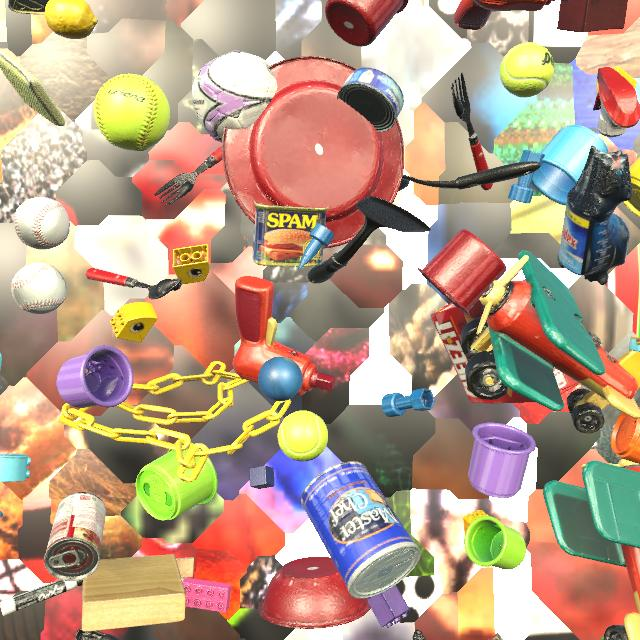ycb_002_master_chef_can: (301, 461, 421, 599)
ycb_003_cracker_box: (431, 279, 579, 403)
ycb_005_tomato_soup_can: (44, 492, 106, 581), (488, 633, 503, 640)
ycb_007_tuna_fish_can: (337, 67, 404, 132)
ycb_010_potted_meat_can: (252, 199, 329, 267), (8, 0, 49, 15)
ycb_014_lemon: (45, 0, 98, 39)
